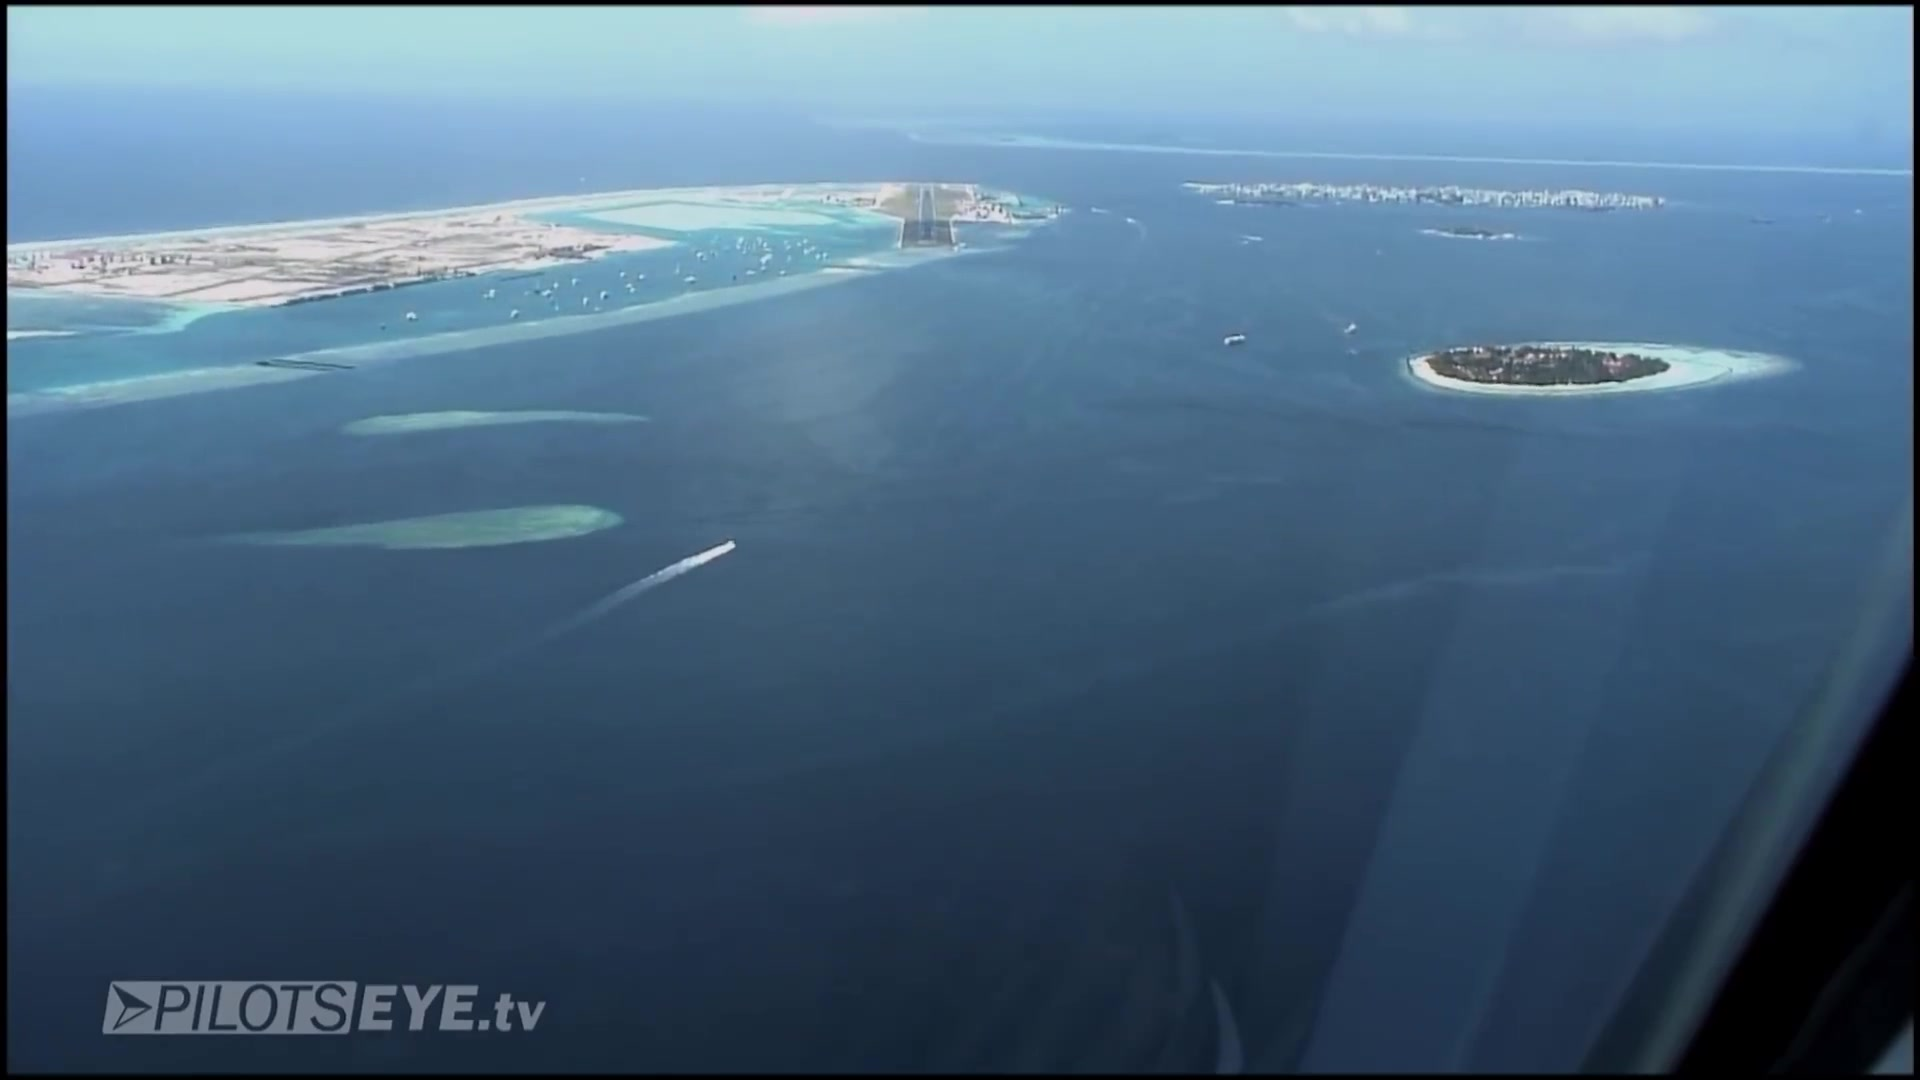runway: (916, 181, 938, 245)
